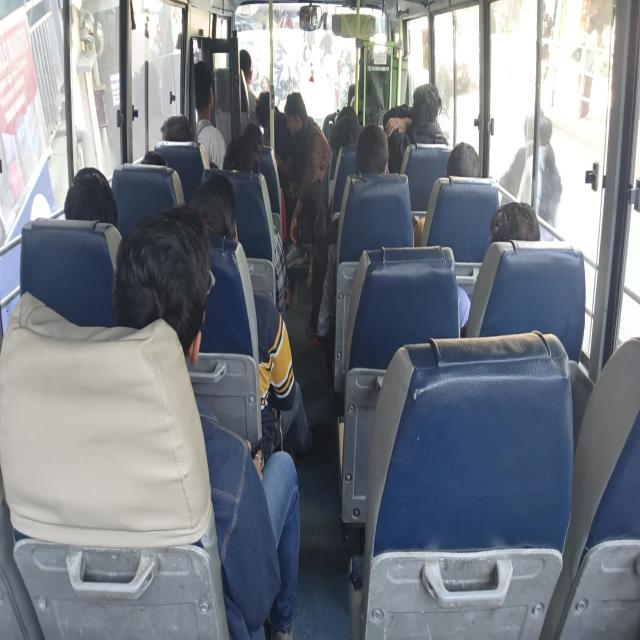person: (112, 204, 300, 638), (188, 172, 313, 462), (308, 123, 389, 345), (222, 134, 290, 321), (457, 200, 541, 335), (283, 91, 331, 247), (412, 141, 480, 246), (384, 82, 448, 173), (517, 112, 562, 232), (193, 59, 226, 169), (255, 90, 294, 182), (63, 166, 118, 228), (576, 12, 598, 118), (489, 201, 541, 243), (355, 123, 389, 175), (222, 133, 261, 173), (446, 141, 480, 178), (239, 48, 258, 114), (160, 114, 193, 142)
